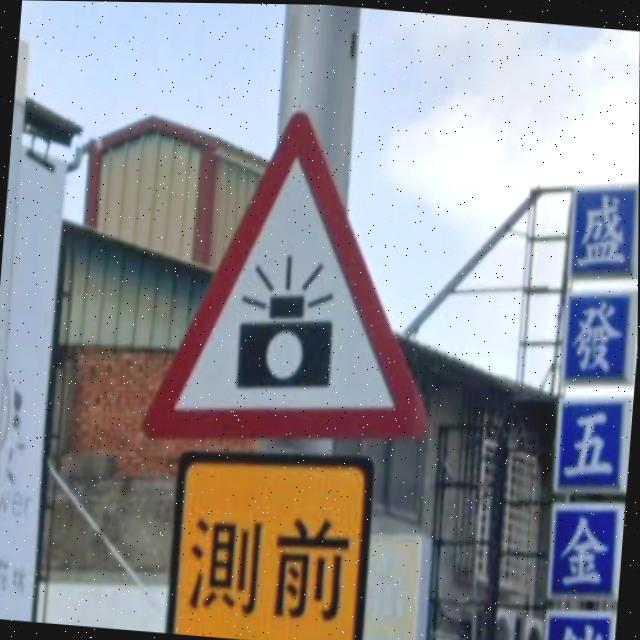speedcamera: (142, 109, 429, 442)
